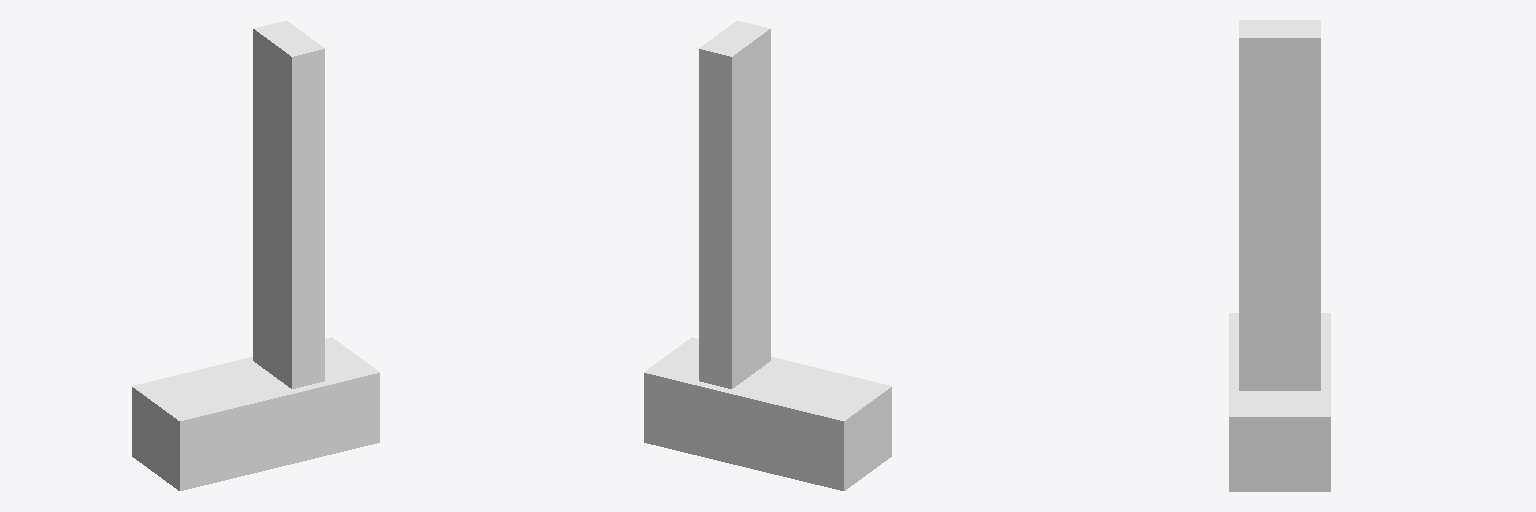
URDF robot description (singleleg):
<?xml version="1.0" encoding="utf-8"?>
<!-- This URDF was automatically created by SolidWorks to URDF Exporter! Originally created by [author] ([email redacted]) 
     Commit Version: 1.6.0-1-g15f4949  Build Version: 1.6.7594.29634
     For more information, please see http://wiki.ros.org/sw_urdf_exporter -->
<robot
  name="singleleg">
  <link
    name="pelvis">
    <inertial>
      <origin
        xyz="-8.921E-19 -1.9853E-18 9.8175E-10"
        rpy="0 0 0" />
      <mass
        value="7.9" />
      <inertia
        ixx="0.00012"
        ixy="-9.7442E-21"
        ixz="1.4359E-21"
        iyy="8.76E-05"
        iyz="5.3091E-21"
        izz="5.4E-05" />
    </inertial>
    <visual>
      <origin
        xyz="0 0 0"
        rpy="0 0 0" />
      <geometry>
        <mesh
          filename="meshes/pelvis.obj" />
      </geometry>
      <material
        name="">
        <color
          rgba="1 1 1 1" />
      </material>
    </visual>
    <collision>
      <origin
        xyz="0 0 0"
        rpy="0 0 0" />
      <geometry>
        <mesh
          filename="meshes/pelvis.obj" />
      </geometry>
    </collision>
  </link>
  <link
    name="up_leg">
    <inertial>
      <origin
        xyz="7.8462E-19 -2.1082E-17 -0.025"
        rpy="0 0 0" />
      <mass
        value="1" />
      <inertia
        ixx="4E-06"
        ixy="5.4734E-23"
        ixz="-3.5546E-23"
        iyy="3.7E-06"
        iyz="-2.6487E-22"
        izz="5E-07" />
    </inertial>
    <visual>
      <origin
        xyz="0 0 0"
        rpy="0 0 0" />
      <geometry>
        <mesh
          filename="meshes/up_leg.obj" />
      </geometry>
      <material
        name="">
        <color
          rgba="1 1 1 1" />
      </material>
    </visual>
    <collision>
      <origin
        xyz="0 0 0"
        rpy="0 0 0" />
      <geometry>
        <mesh
          filename="meshes/up_leg.obj" />
      </geometry>
    </collision>
  </link>
  <joint
    name="joint_up_leg"
    type="revolute">
    <origin
      xyz="0 0 -0.03"
      rpy="0 0 0" />
    <parent
      link="pelvis" />
    <child
      link="up_leg" />
    <axis
      xyz="0 -1 0" />
    <limit
      lower="-3.14"
      upper="3.14"
      effort="100"
      velocity="1" />
  </joint>
  <link
    name="low_leg">
    <inertial>
      <origin
        xyz="6.3874E-18 2.1466E-17 -0.025"
        rpy="0 0 0" />
      <mass
        value="1" />
      <inertia
        ixx="4E-06"
        ixy="-7.389E-23"
        ixz="3.8195E-22"
        iyy="3.7E-06"
        iyz="3.4604E-22"
        izz="5E-07" />
    </inertial>
    <visual>
      <origin
        xyz="0 0 0"
        rpy="0 0 0" />
      <geometry>
        <mesh
          filename="meshes/low_leg.obj" />
      </geometry>
      <material
        name="">
        <color
          rgba="1 1 1 1" />
      </material>
    </visual>
    <collision>
      <origin
        xyz="0 0 0"
        rpy="0 0 0" />
      <geometry>
        <mesh
          filename="meshes/low_leg.obj" />
      </geometry>
    </collision>
  </link>
  <joint
    name="joint_low_leg"
    type="revolute">
    <origin
      xyz="0 0 -0.05"
      rpy="0 0 0" />
    <parent
      link="up_leg" />
    <child
      link="low_leg" />
    <axis
      xyz="0 -1 0" />
    <limit
      lower="-3.14"
      upper="3.14"
      effort="100"
      velocity="1" />
  </joint>
  <link
    name="heel">
    <inertial>
      <origin
        xyz="-0.01 -3.1648E-19 0.0025"
        rpy="0 0 0" />
      <mass
        value="0.1" />
      <inertia
        ixx="2.5625E-06"
        ixy="-5.1391E-22"
        ixz="1.0703E-21"
        iyy="1E-05"
        iyz="6.3101E-38"
        izz="1.0563E-05" />
    </inertial>
    <visual>
      <origin
        xyz="0 0 0"
        rpy="0 0 0" />
      <geometry>
        <mesh
          filename="meshes/heel.obj" />
      </geometry>
      <material
        name="">
        <color
          rgba="1 1 1 1" />
      </material>
    </visual>
    <collision>
      <origin
        xyz="0 0 0"
        rpy="0 0 0" />
      <geometry>
        <mesh
          filename="meshes/heel.obj" />
      </geometry>
    </collision>
  </link>
  <joint
    name="joint_ankle"
    type="revolute">
    <origin
      xyz="0 0 -0.0525"
      rpy="0 0 0" />
    <parent
      link="low_leg" />
    <child
      link="heel" />
    <axis
      xyz="0 1 0" />
    <limit
      lower="-3.14"
      upper="3.14"
      effort="100"
      velocity="1" />
  </joint>

  <frame link="heel" name="frame_toe" xyz="0.05 0 0"/>
  <frame link="heel" name="frame_heel" xyz="-0.05 0 0"/>


</robot>

--- Facts derived from the render (not from the file) ---
The picture shows the robot from 3 angles, left to right: view 1: azimuth 30°, elevation 25°; view 2: azimuth 150°, elevation 25°; view 3: azimuth 270°, elevation 25°; orthographic projection.
Model singleleg with 4 links and 3 joints (3 revolute), rooted at pelvis, posed all joints at 0.
Visible links, largest first — view 1: heel, up_leg, low_leg; view 2: heel, up_leg, low_leg; view 3: up_leg, heel, low_leg.
Link boxes in pixels (box(x1,y1,x2,y2)): heel: box(132, 337, 379, 490); up_leg: box(253, 21, 324, 266); low_leg: box(253, 204, 324, 388); heel: box(644, 337, 891, 490); up_leg: box(699, 21, 770, 266); low_leg: box(699, 204, 770, 388); up_leg: box(1239, 20, 1320, 260); heel: box(1229, 313, 1330, 491); low_leg: box(1239, 225, 1320, 390).
Size in the robot's own frame: 0.06 by 0.025 by 0.115 metres.
3 mesh visuals loaded from 4 distinct referenced files (3 OBJ); not drawn: 1 (reference not matched to a file when rendering).